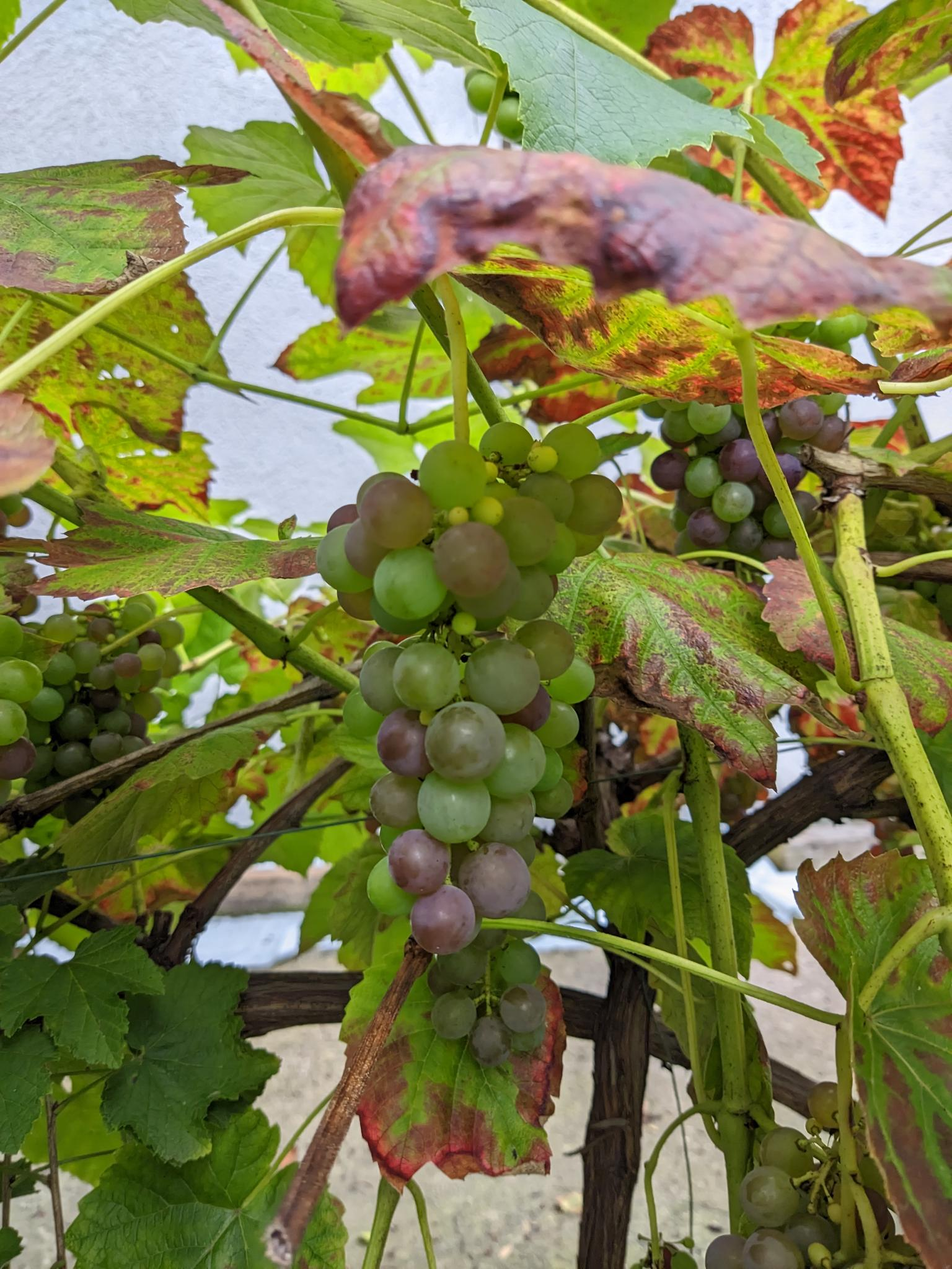Grape Unripe: (342, 424, 594, 986), (0, 595, 184, 793), (646, 382, 832, 577), (708, 1083, 900, 1269), (432, 946, 544, 1066)
